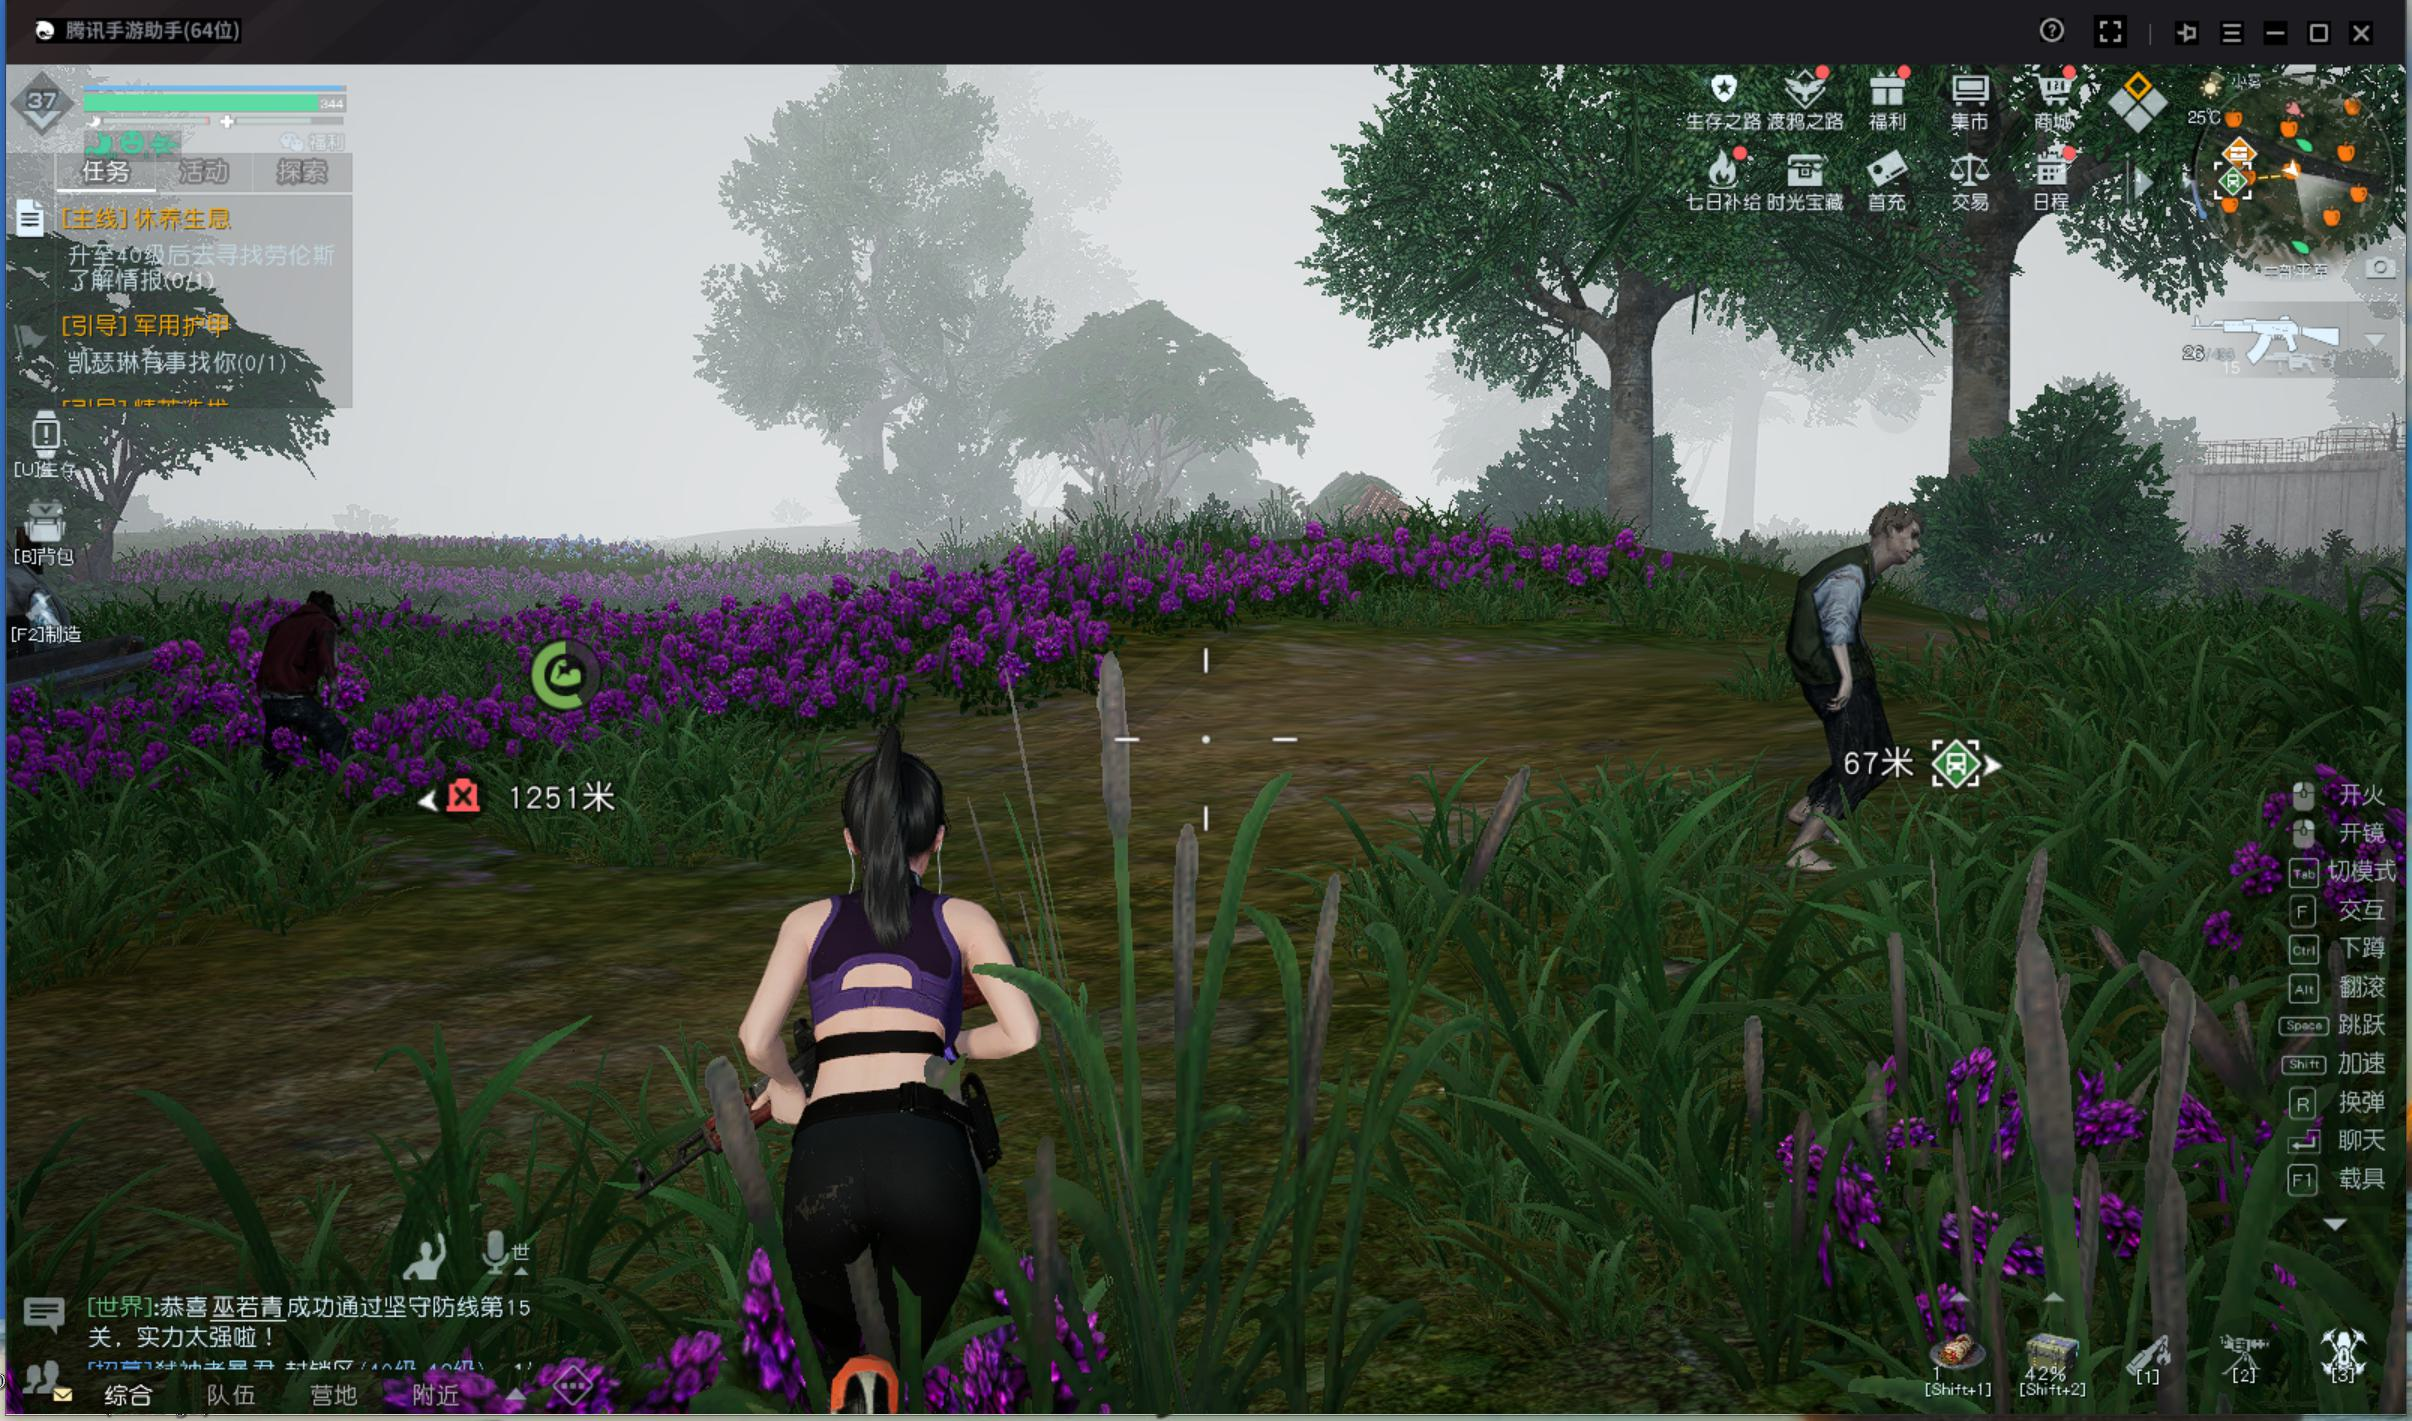tree: (1937, 328, 2025, 611), (1598, 365, 1668, 550)
